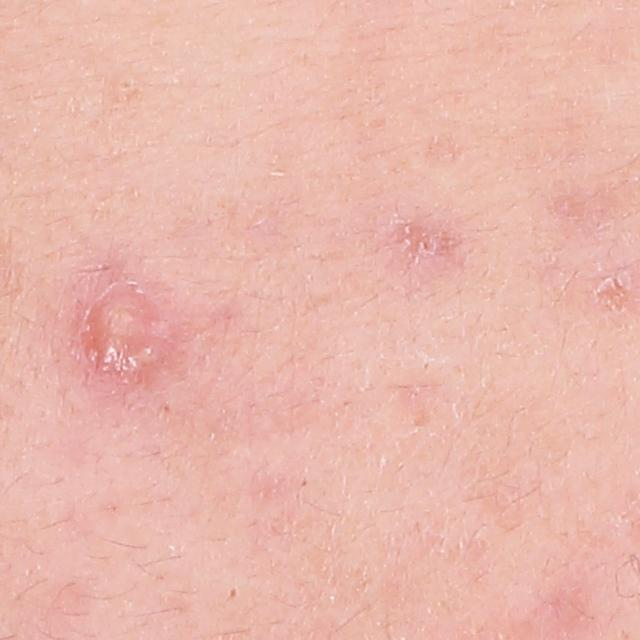comedo: (225, 581, 242, 601)
